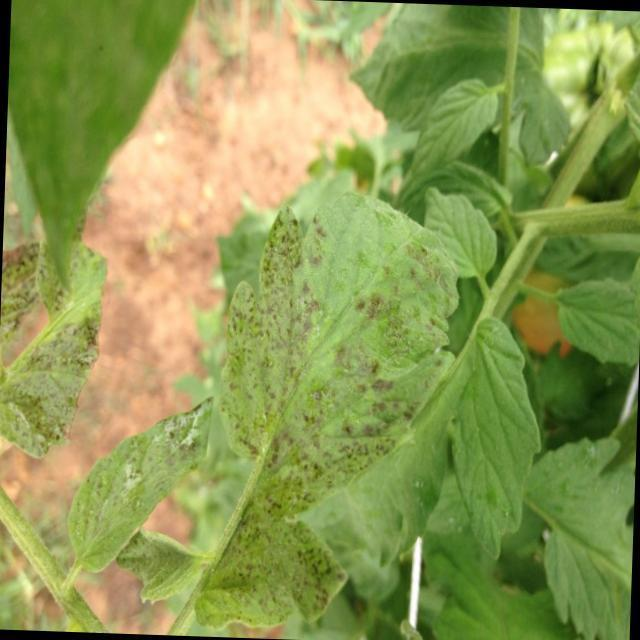Bacterial Spot: (206, 238, 448, 617), (59, 378, 215, 586), (0, 232, 112, 456)
Healthy Leaf: (525, 420, 635, 640), (451, 305, 538, 566), (398, 67, 502, 204), (550, 264, 640, 380)
